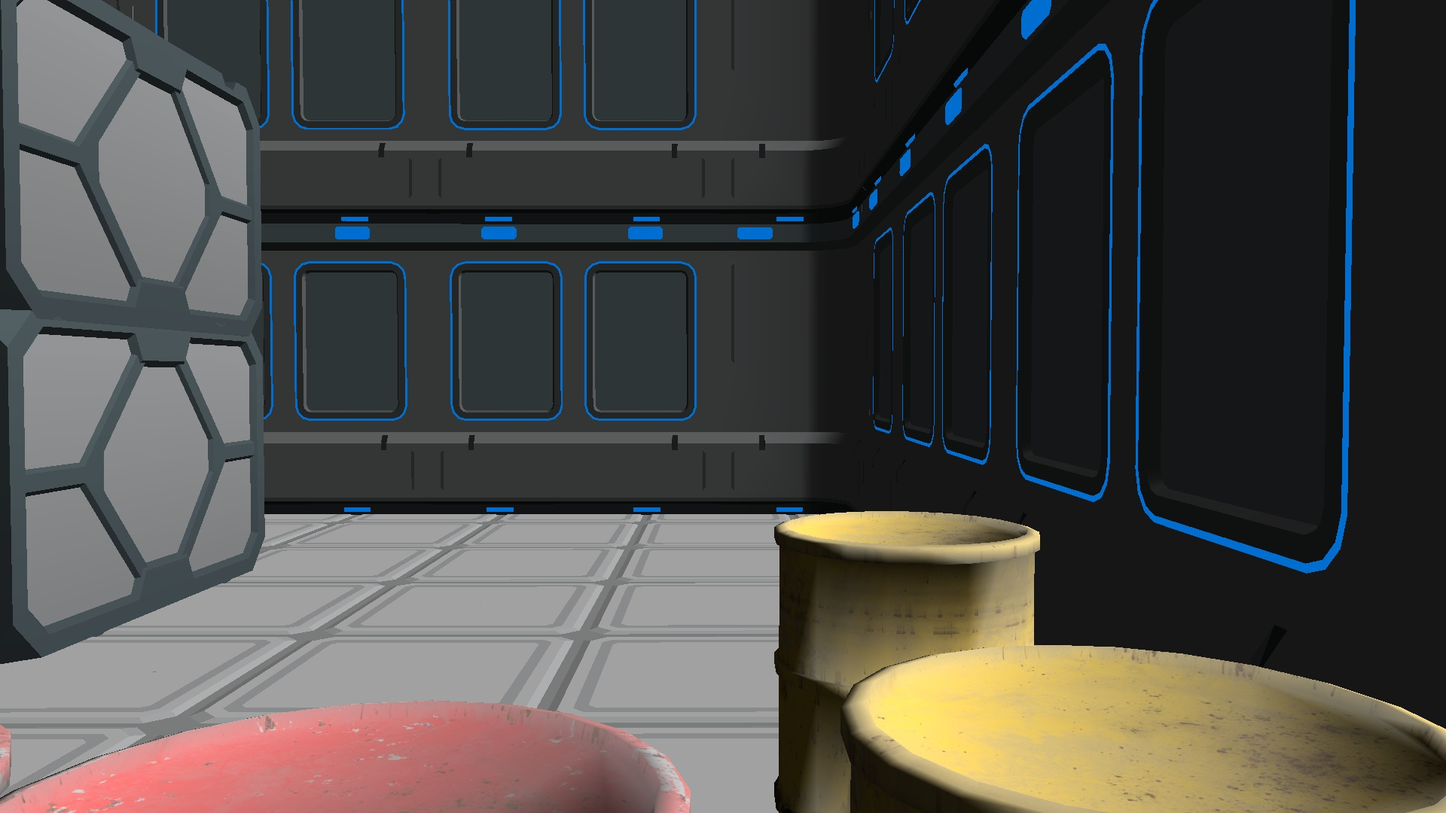toxic barrel: (842, 646, 1446, 813), (774, 511, 1041, 813), (0, 700, 692, 813)
